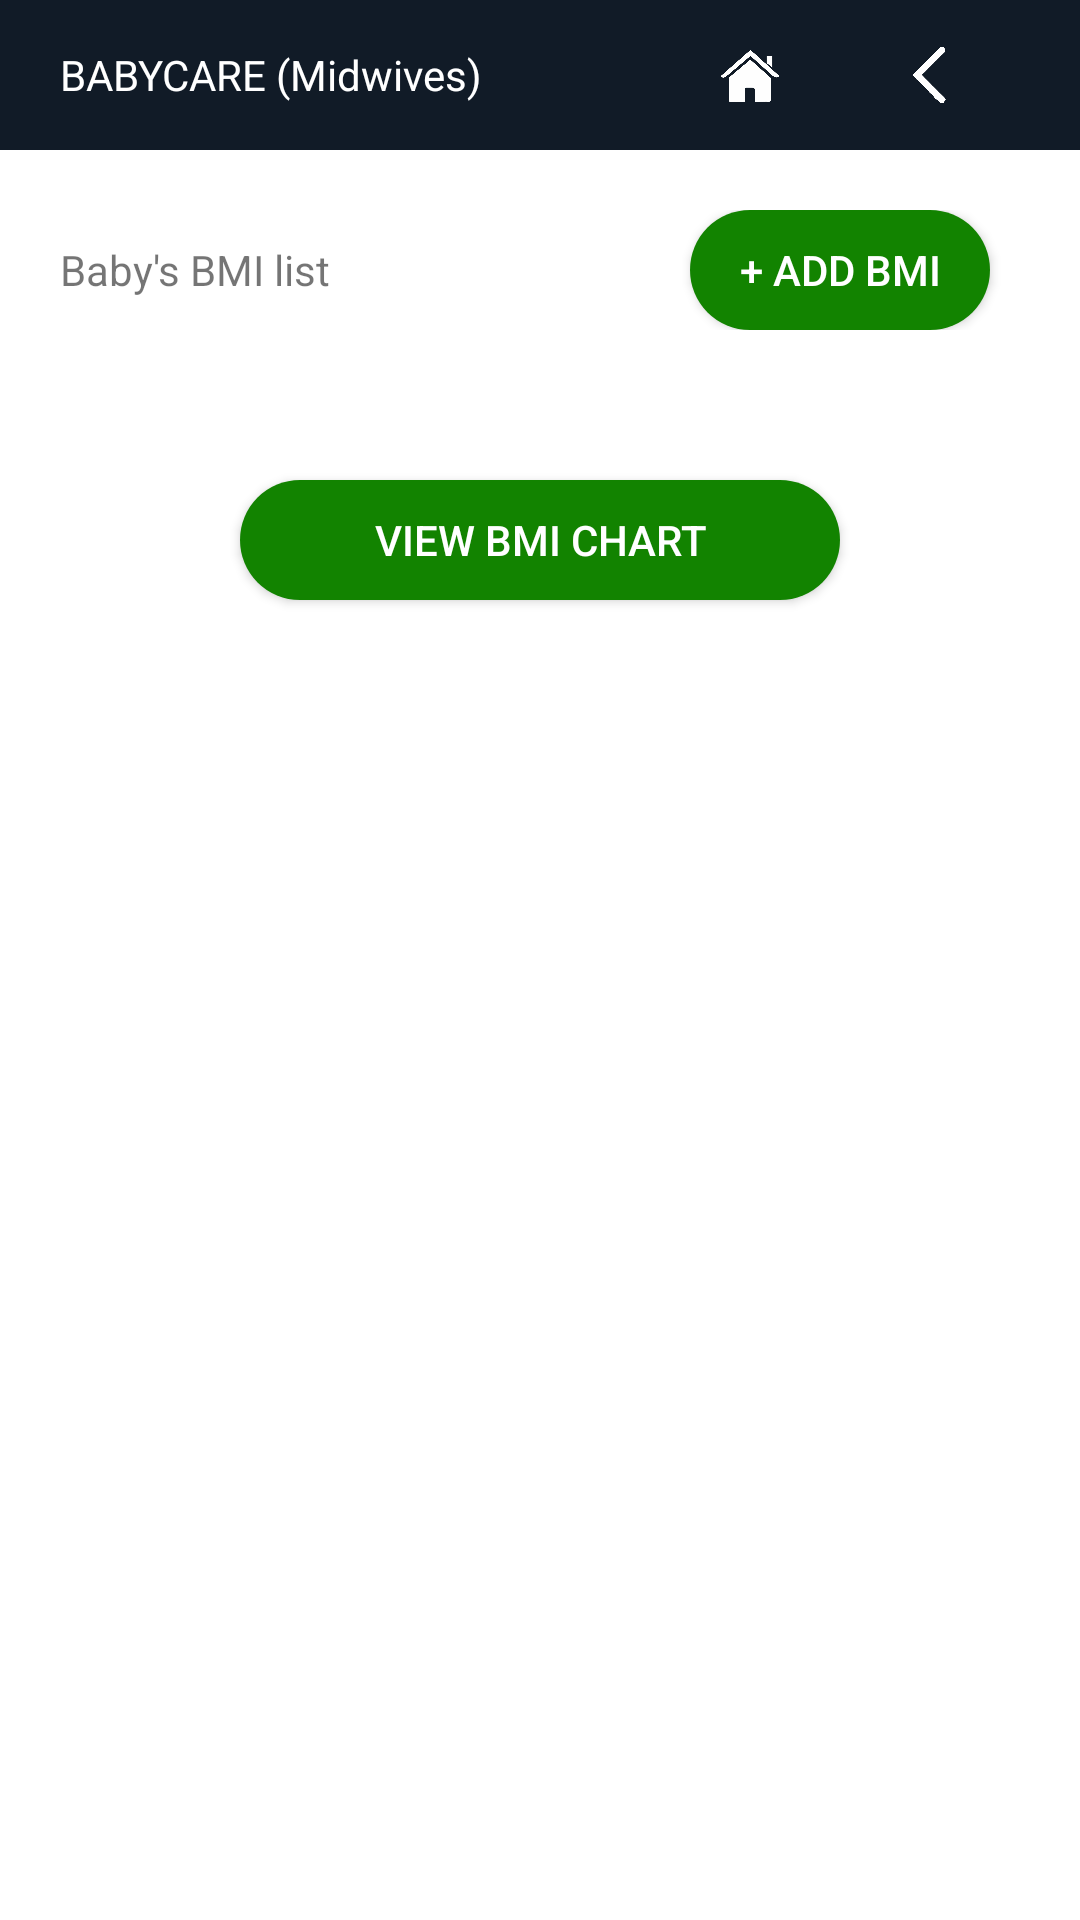

Locate icon controls on the screen. Image size 1080 x 1920, boxes as (x1=x1, y1=y1, x2=x2, y2=y2).
back: (x1=913, y1=47, x2=946, y2=103)
home: (x1=721, y1=50, x2=779, y2=102)
